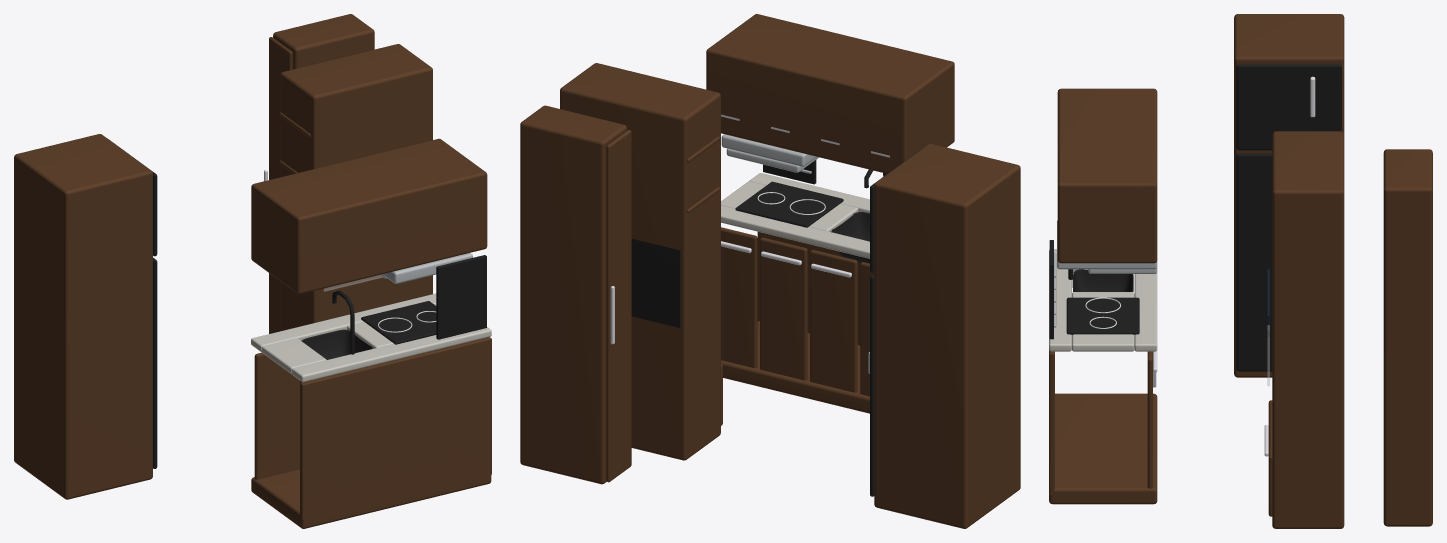
File: galley.glb
The picture shows the model from 3 angles, left to right: view 1: azimuth 30°, elevation 25°; view 2: azimuth 150°, elevation 25°; view 3: azimuth 270°, elevation 25°; orthographic projection. The views are drawn at different scales.
Parts seen in each view (by area): view 1: fridge, galley_run, galley_overhead, galley_oven, galley_details, wardrobe; view 2: fridge, wardrobe, galley_oven, galley_run, galley_overhead, galley_details; view 3: galley_oven, fridge, wardrobe, galley_run, galley_overhead, galley_details.
Part boxes in pixels (x1,y1,x2,y2): fridge: [14, 134, 157, 499]; galley_run: [251, 293, 491, 528]; galley_overhead: [251, 138, 487, 294]; galley_oven: [279, 44, 432, 383]; galley_details: [332, 253, 486, 354]; wardrobe: [264, 14, 374, 333]; fridge: [870, 143, 1020, 528]; wardrobe: [520, 105, 631, 484]; galley_oven: [560, 63, 722, 460]; galley_run: [721, 173, 874, 413]; galley_overhead: [706, 14, 954, 173]; galley_details: [721, 134, 886, 227]; galley_oven: [1264, 131, 1344, 528]; fridge: [1234, 14, 1344, 377]; wardrobe: [1383, 149, 1432, 526]; galley_run: [1049, 249, 1157, 504]; galley_overhead: [1057, 88, 1157, 263]; galley_details: [1049, 220, 1157, 339].
Size of the model in its own units: 2.36 by 1.9 by 1.95.
